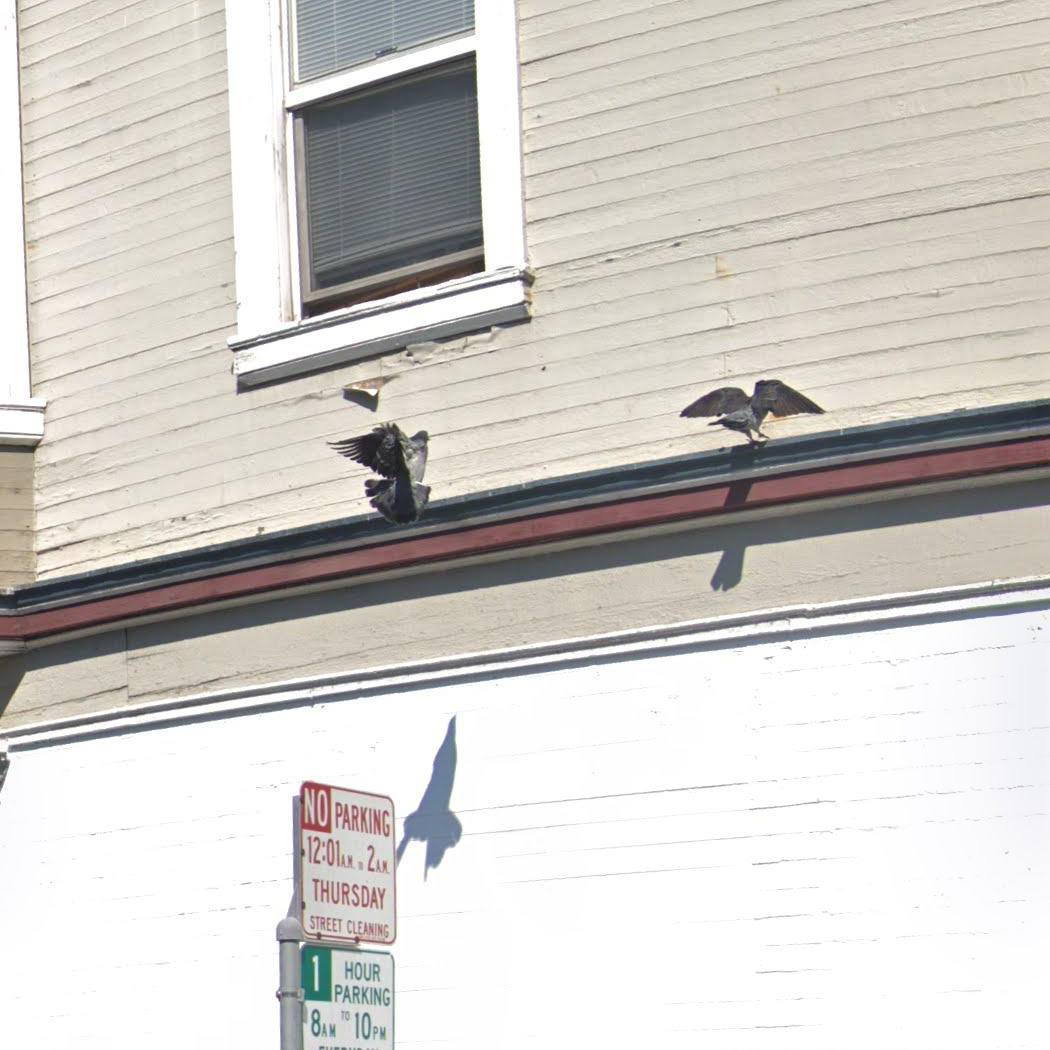1 Hour Parking: (298, 942, 398, 1049)
No Parking: (298, 779, 398, 946)
